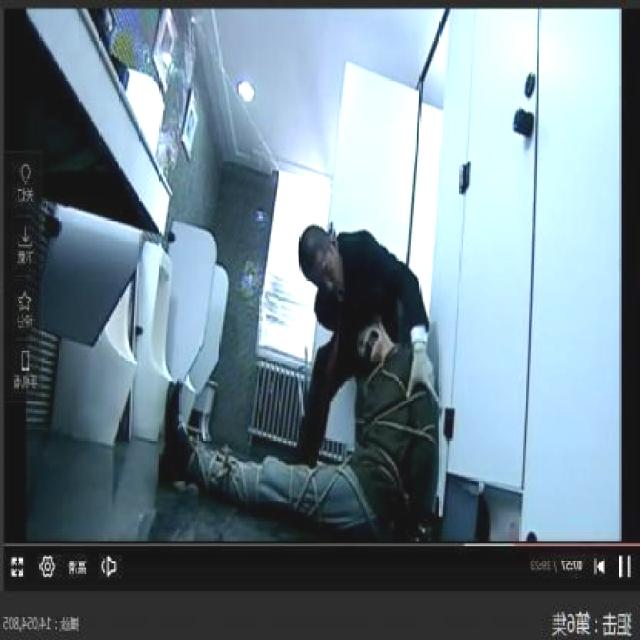face_nomask: (302, 254, 343, 300)
hand_glove: (402, 346, 443, 408)
head_nohelmet: (294, 222, 329, 263)
person: (288, 223, 444, 475)
